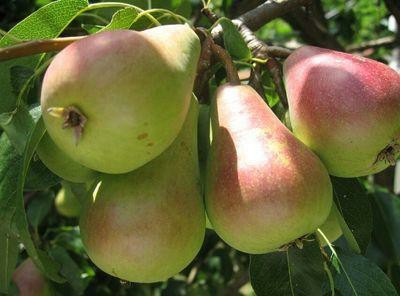pear: (41, 20, 200, 175), (78, 92, 205, 281), (204, 80, 331, 253), (281, 44, 400, 177)
